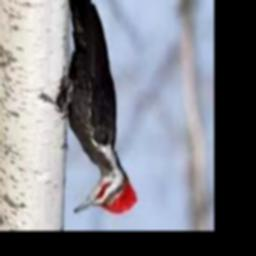Woodpecker: (59, 0, 137, 214)
